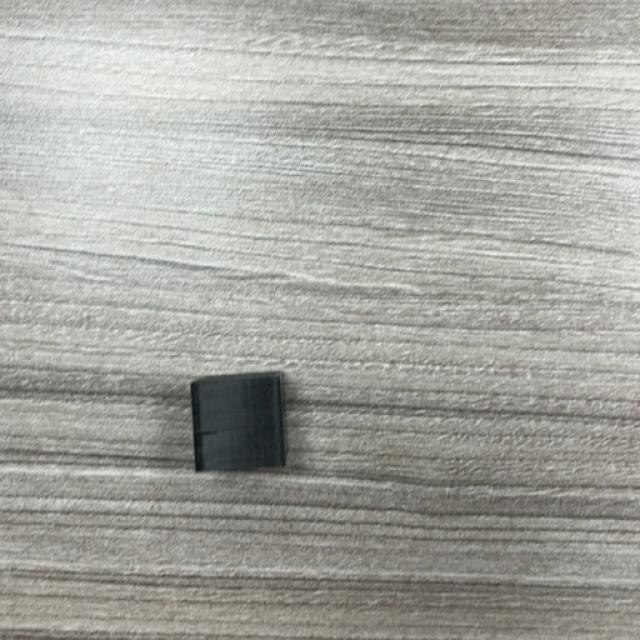Negro: (189, 372, 288, 474)
